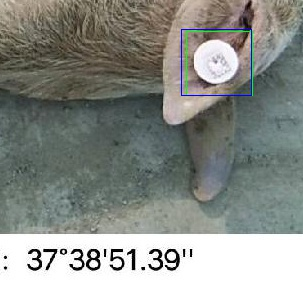text: (186, 31, 252, 95)
